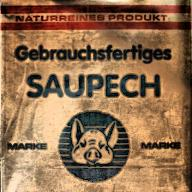boar: (70, 119, 118, 167)
